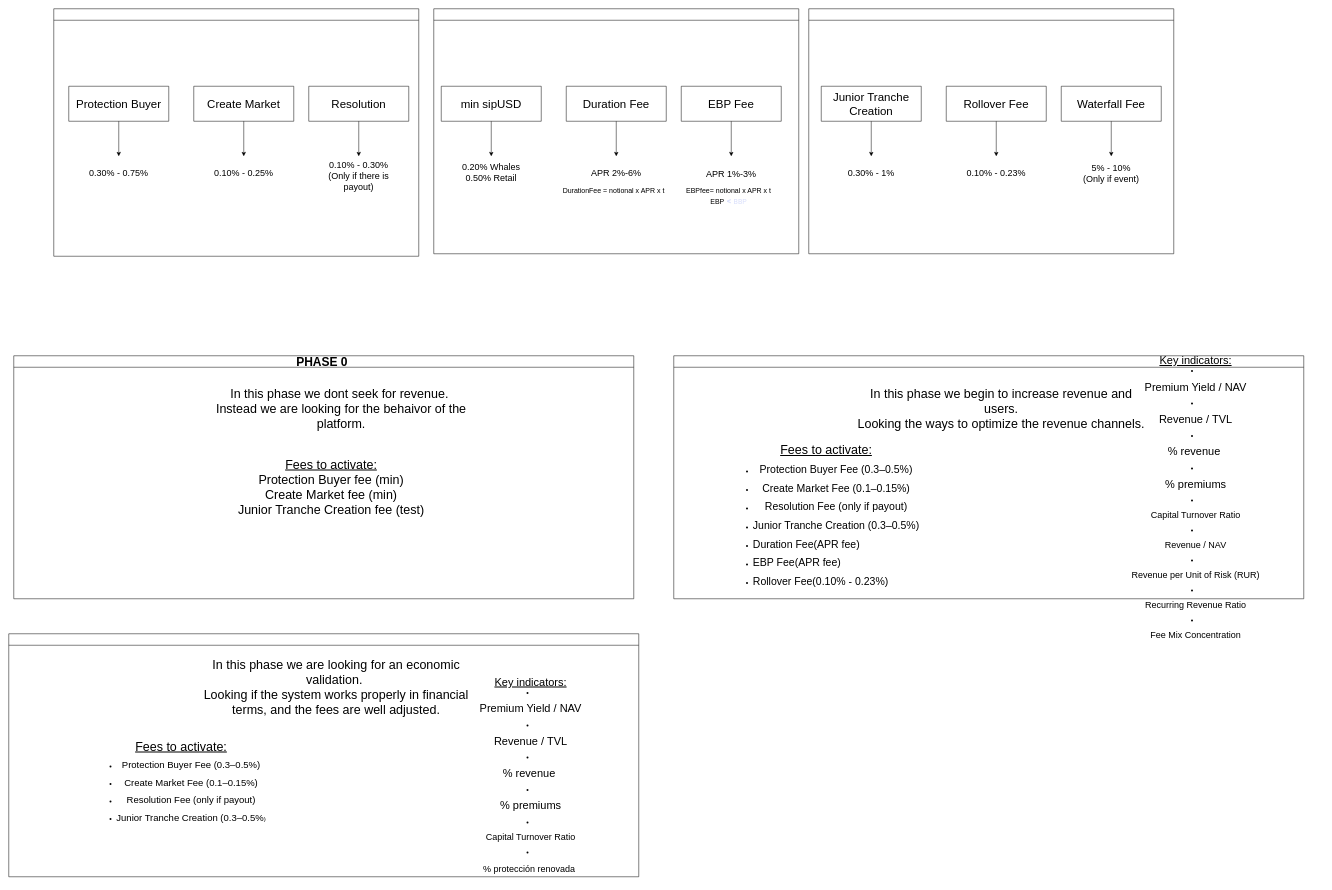
This 1332x890 diagram has some shape labels left out. The box of each missing label's shape, as (x1, y1, x2, y2) in pixels:
Capital Layer: (433, 8, 799, 254)
PHASE 1: (8, 633, 639, 877)
PHASE 2: (673, 355, 1304, 599)
Risk Layer Fees: (53, 8, 419, 256)
Tranches Fees: (808, 8, 1174, 254)
